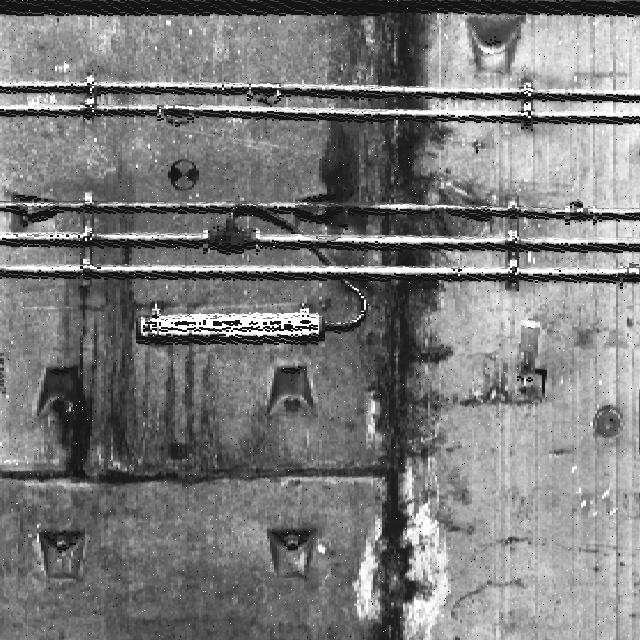leakage: (319, 12, 450, 640), (34, 272, 287, 501)
